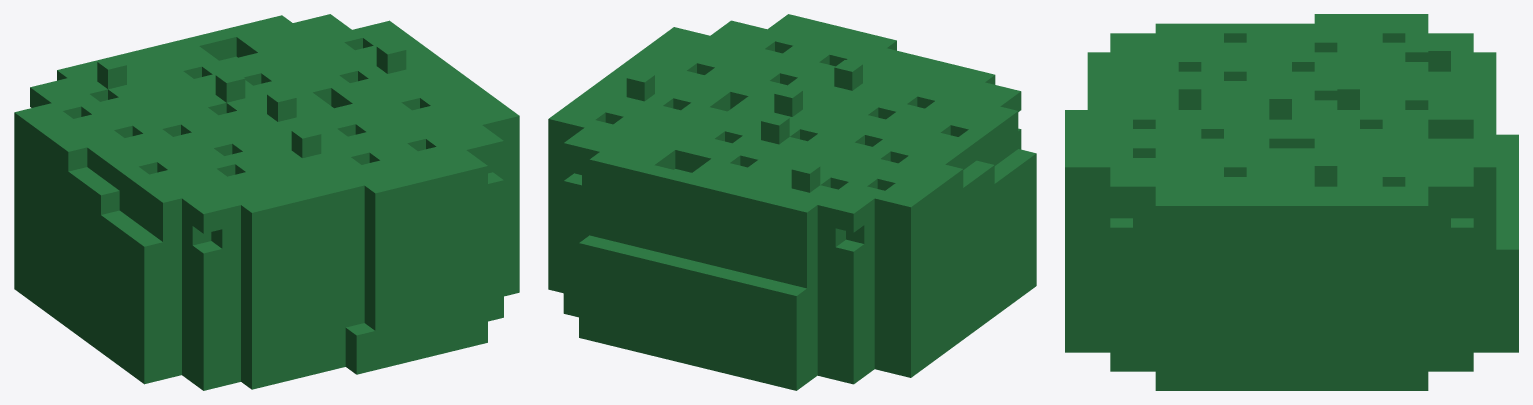
File: Potionx16.obj
3 views of the same model, side by side, from view 1: azimuth 30°, elevation 25°; view 2: azimuth 150°, elevation 25°; view 3: azimuth 270°, elevation 25° (orthographic). The views are drawn at different scales.
Bounding box in the file's own units: 2 × 1 × 2.
Materials: 1 (1 with a texture image).
